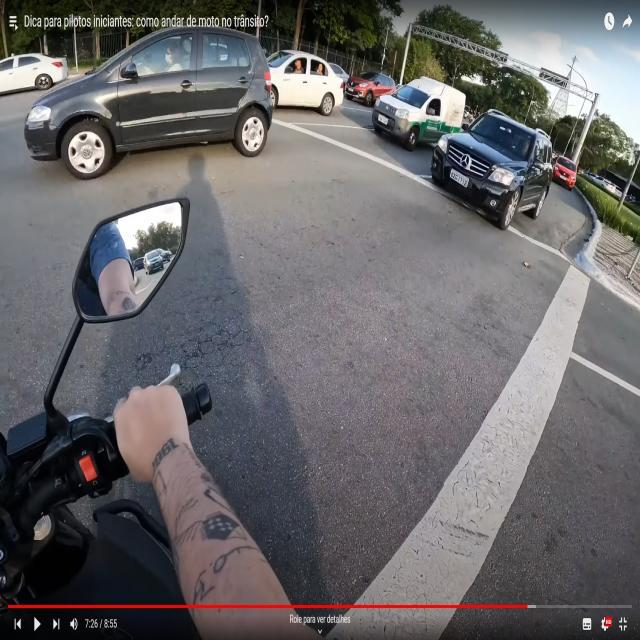Placa_mercosul_carro: (450, 169, 469, 187)
